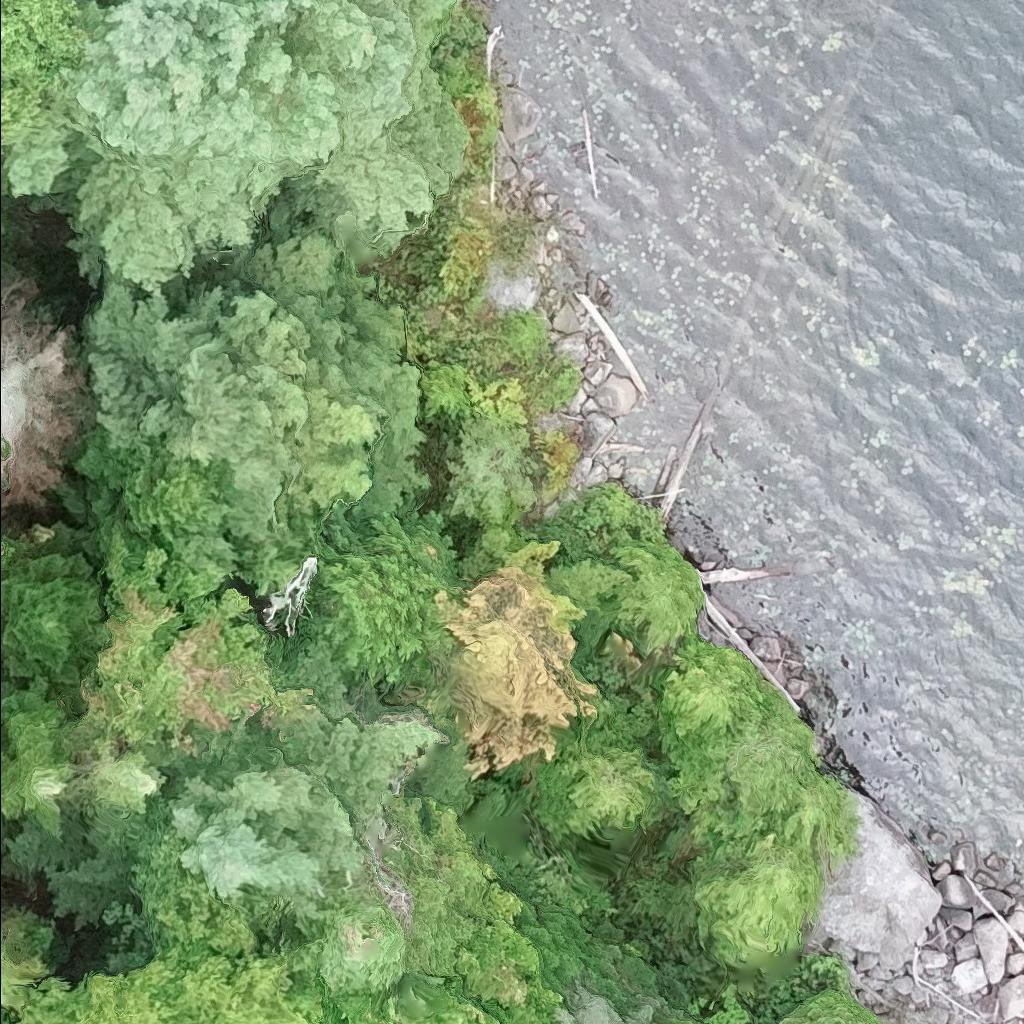crown: (0, 631, 458, 964), (4, 0, 469, 296), (69, 197, 434, 542), (0, 798, 316, 1023), (65, 511, 331, 776), (0, 250, 86, 511), (0, 516, 108, 715), (0, 672, 75, 842), (66, 739, 163, 821)
